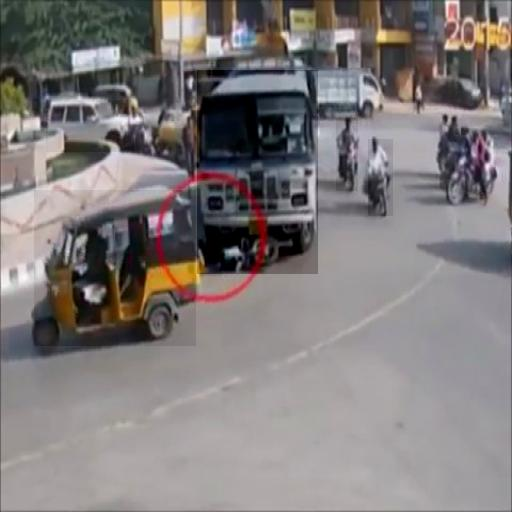小汽车: (34, 190, 196, 346), (46, 100, 134, 152)
小汽车撞自行车: (197, 70, 318, 274)
自行车: (448, 129, 500, 201), (368, 139, 393, 216), (336, 118, 358, 191)
